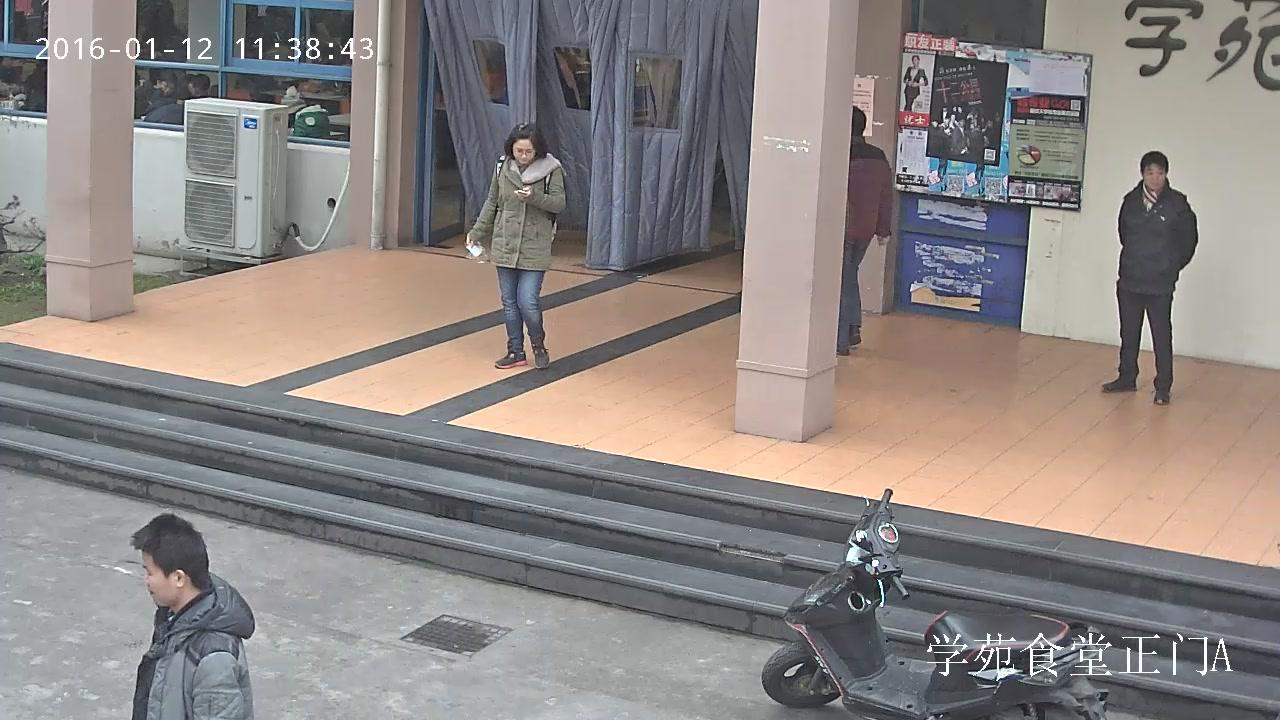person: (130, 512, 255, 720), (464, 122, 567, 369), (1100, 149, 1198, 405), (835, 106, 891, 353), (144, 74, 209, 123), (280, 85, 328, 140), (134, 74, 178, 119), (14, 61, 47, 112), (902, 55, 927, 111), (0, 56, 16, 84)
